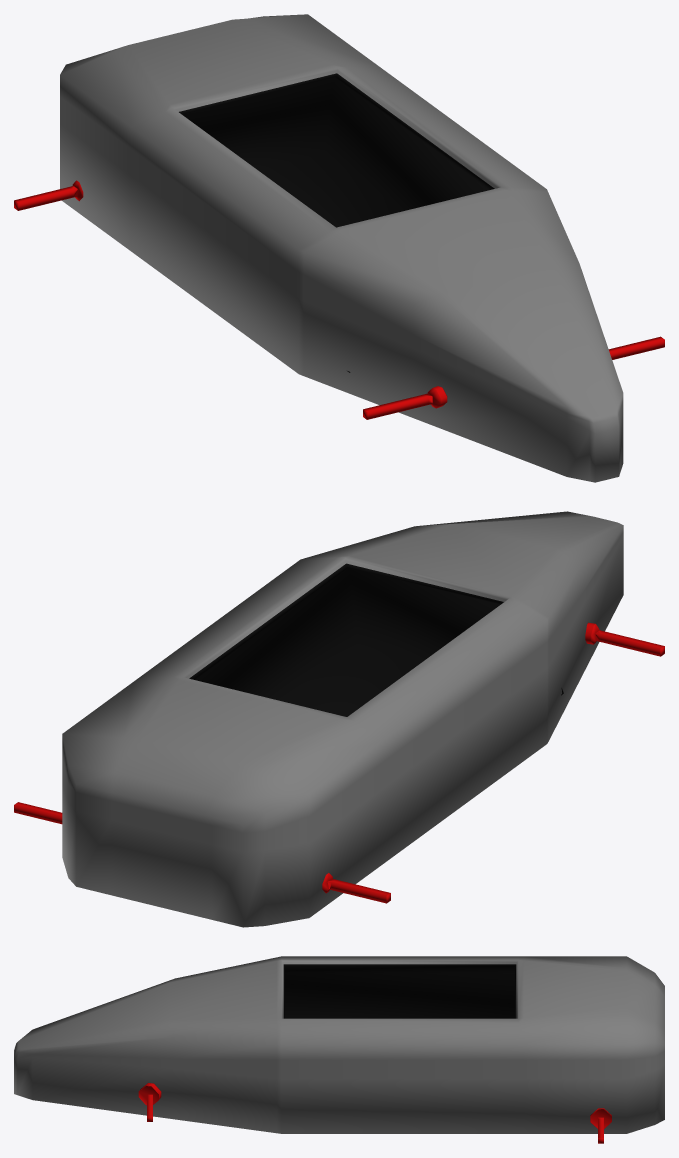
Rendered from car_body.fbx.
3 views of the same model, one above another, from view 1: azimuth 30°, elevation 25°; view 2: azimuth 150°, elevation 25°; view 3: azimuth 270°, elevation 25° (orthographic). The views are drawn at different scales.
Visible parts, largest first — view 1: Body; view 2: Body; view 3: Body.
Part boxes in pixels (x1,y1,x2,y2): Body: [14, 14, 664, 482]; Body: [14, 511, 664, 927]; Body: [14, 956, 664, 1143].
Bounding box in the file's own units: 284 × 100 × 593.
